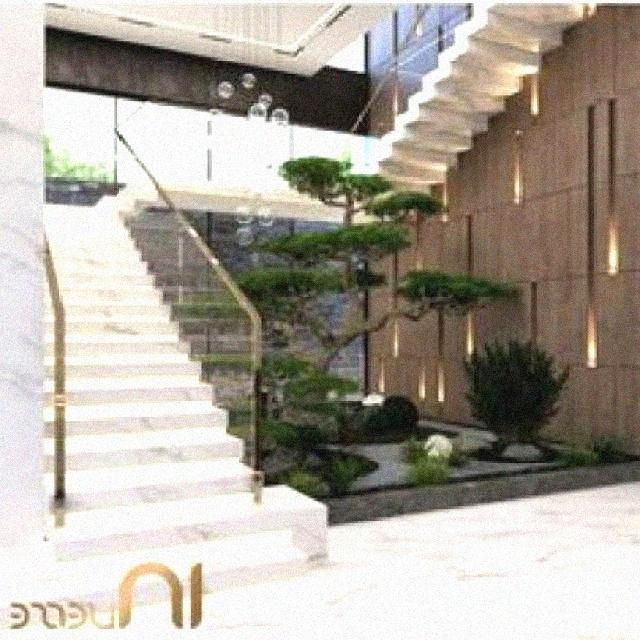stair: (19, 148, 378, 554)
